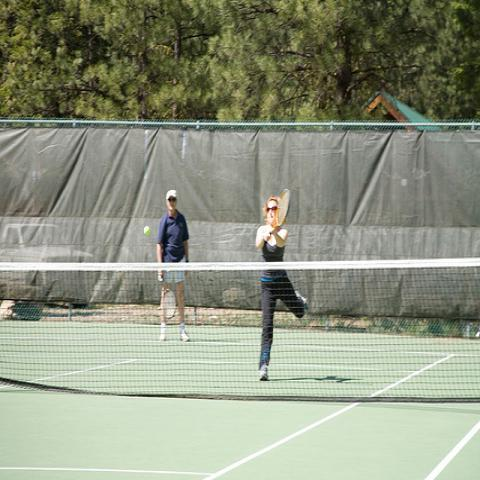truck: (0, 226, 94, 263)
